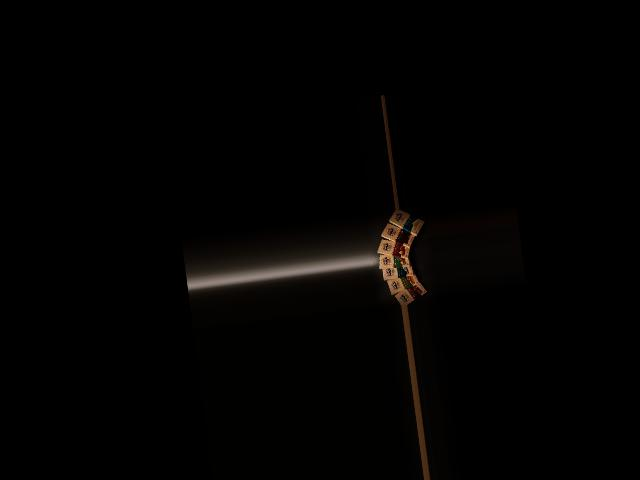chocolate: (386, 206, 428, 239)
